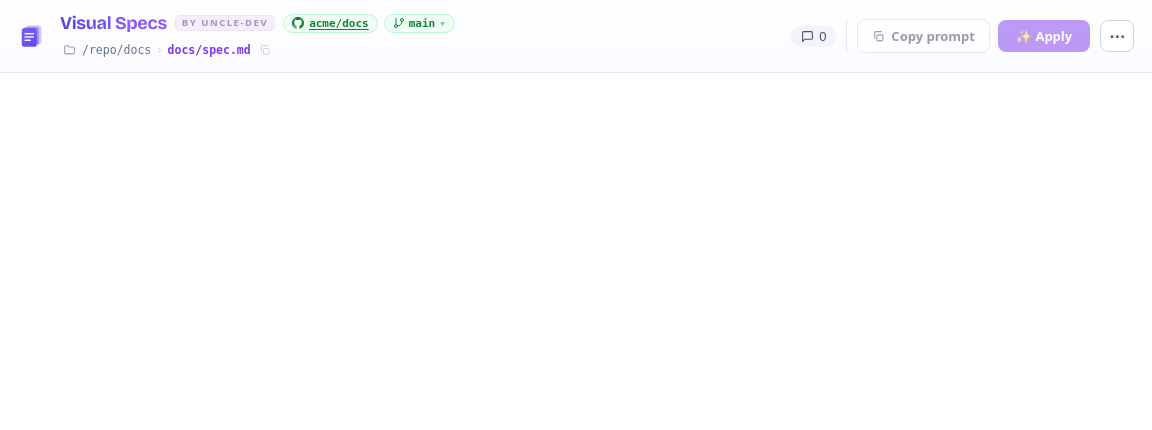
Test case: a refusal for uncommitted work (R-6.6) › lists the paths the server reported
This screenshot has width=1152, height=430.
Click the button with test id "git-branch-switch" at (419, 23), box top-left (384, 14), bottom-right (455, 32)
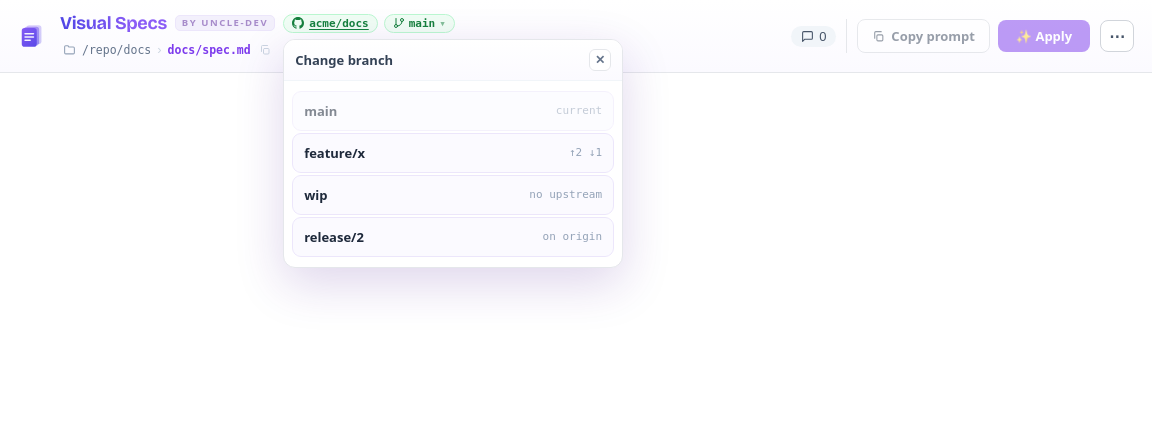
Click the button with test id "git-branch-feature/x" at (335, 152), box top-left (292, 132), bottom-right (614, 172)
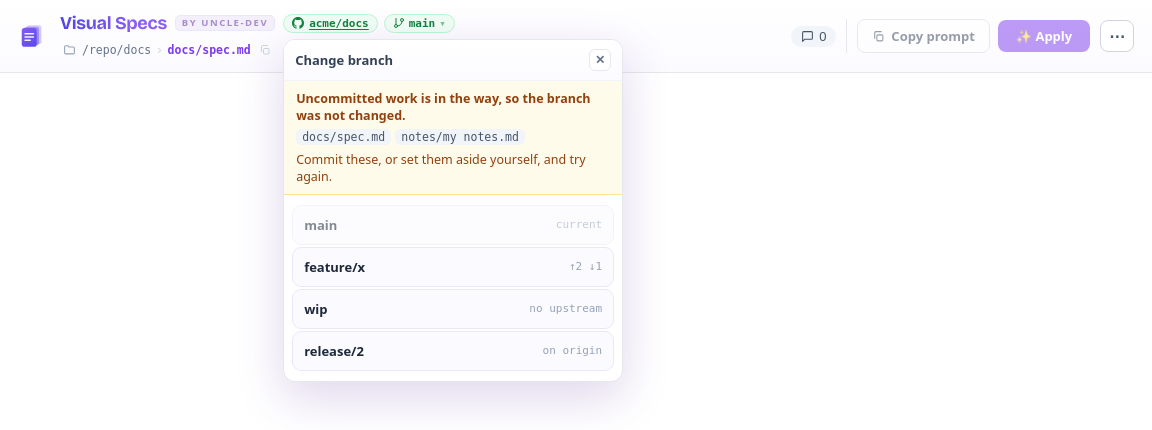
Expected: the element with test id "git-branch-refusal" shows "docs/spec.md", top-left (302, 130), bottom-right (385, 144)
Expected: the element with test id "git-branch-refusal" shows "notes/my notes.md", top-left (401, 130), bottom-right (519, 144)
